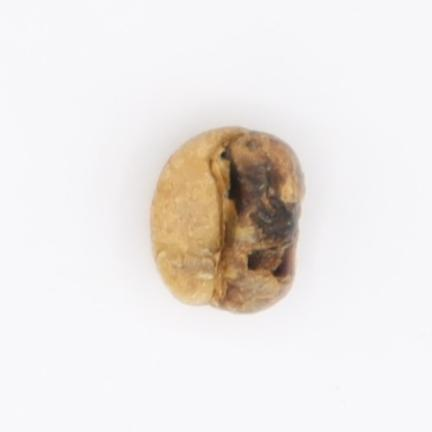partial-black: (152, 127, 304, 312)
